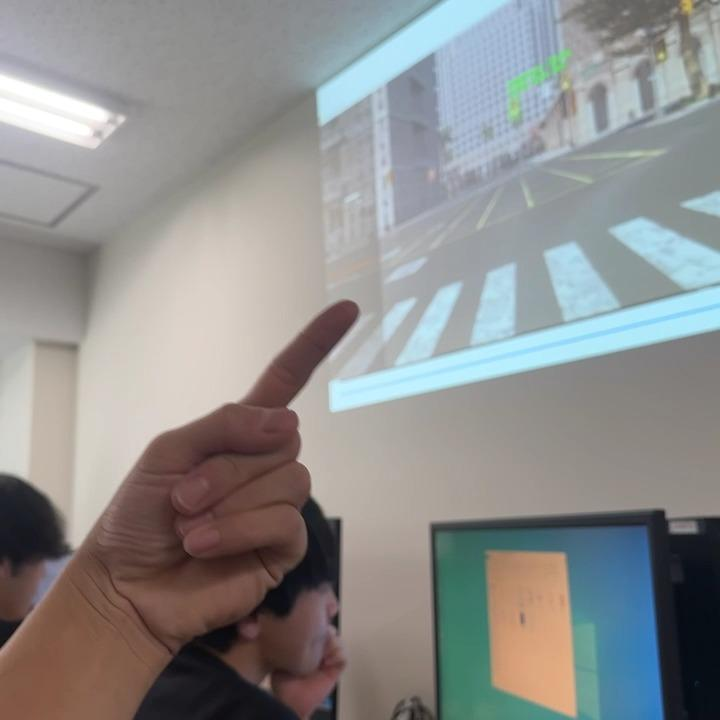without_gloves: (194, 241, 466, 586)
